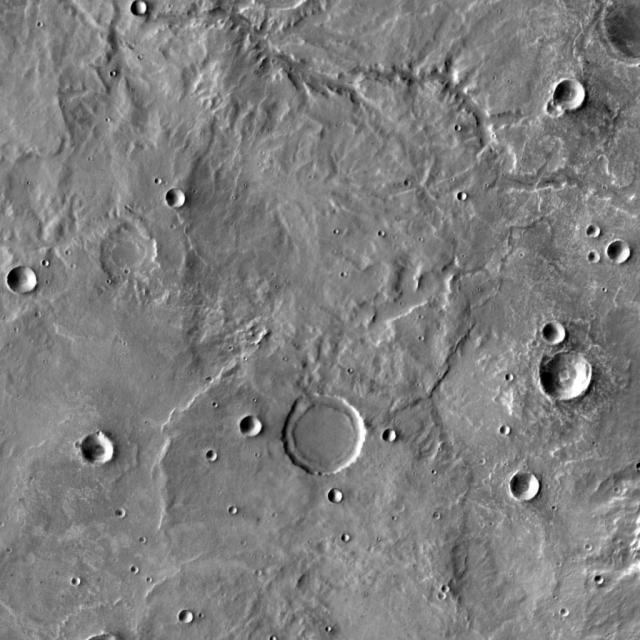crater: (283, 394, 369, 477), (579, 14, 640, 101), (101, 227, 160, 284), (539, 352, 592, 403), (83, 433, 115, 465), (557, 82, 587, 112), (513, 472, 542, 501), (10, 267, 38, 294), (608, 243, 631, 266), (544, 324, 566, 346), (242, 417, 263, 437), (168, 190, 188, 210), (550, 102, 567, 120), (132, 2, 150, 19), (328, 490, 344, 505), (181, 610, 196, 624), (384, 429, 398, 444), (588, 227, 601, 240), (589, 253, 602, 265), (25, 552, 37, 564), (209, 452, 219, 462), (459, 194, 469, 204), (502, 426, 512, 436), (118, 509, 128, 519), (70, 580, 79, 588), (432, 588, 440, 596), (562, 609, 570, 617), (508, 375, 516, 383), (598, 577, 606, 584), (337, 530, 344, 538), (126, 561, 134, 568), (224, 500, 231, 507), (134, 530, 142, 536), (427, 508, 434, 514), (437, 582, 444, 588), (449, 120, 456, 126), (373, 224, 380, 230), (400, 176, 406, 182), (264, 628, 271, 633)
